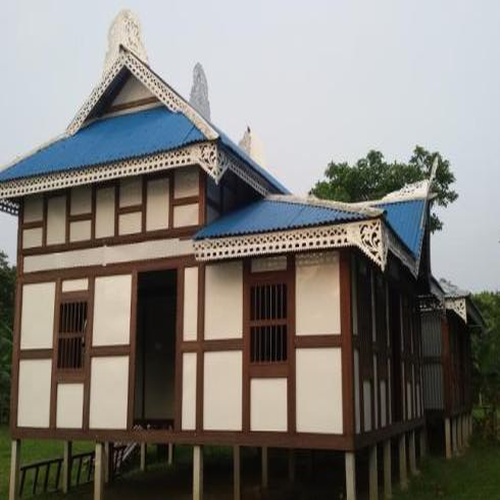Tin-shade House: (4, 19, 483, 473)
